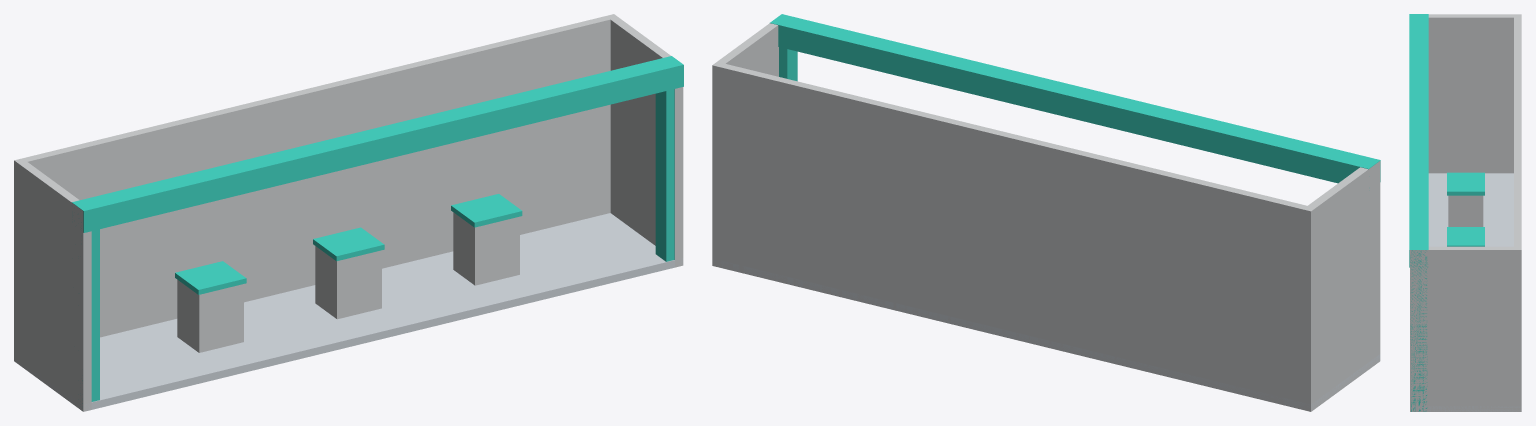
The picture shows the model from 3 angles, left to right: view 1: azimuth 30°, elevation 25°; view 2: azimuth 150°, elevation 25°; view 3: azimuth 270°, elevation 25°; orthographic projection. The views are drawn at different scales.
Parts seen in each view (by area): view 1: Exhibition Booth Concept; view 2: Exhibition Booth Concept; view 3: Exhibition Booth Concept.
Boxes of the visible parts, <box> form: Exhibition Booth Concept: <box>14,14,683,411</box>; Exhibition Booth Concept: <box>712,14,1380,411</box>; Exhibition Booth Concept: <box>1409,14,1521,411</box>.
Bounding box in the file's own units: 10 × 3.2 × 2.01.
